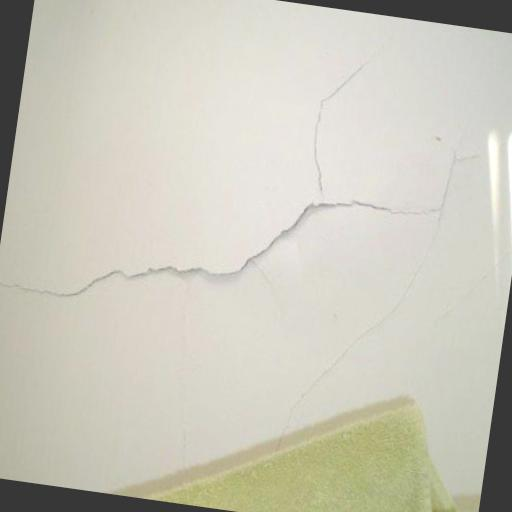spalling: (11, 193, 431, 310), (313, 150, 458, 394), (304, 61, 367, 189)
